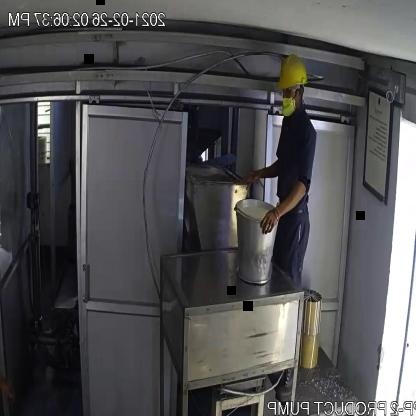helmet: (270, 50, 315, 98)
